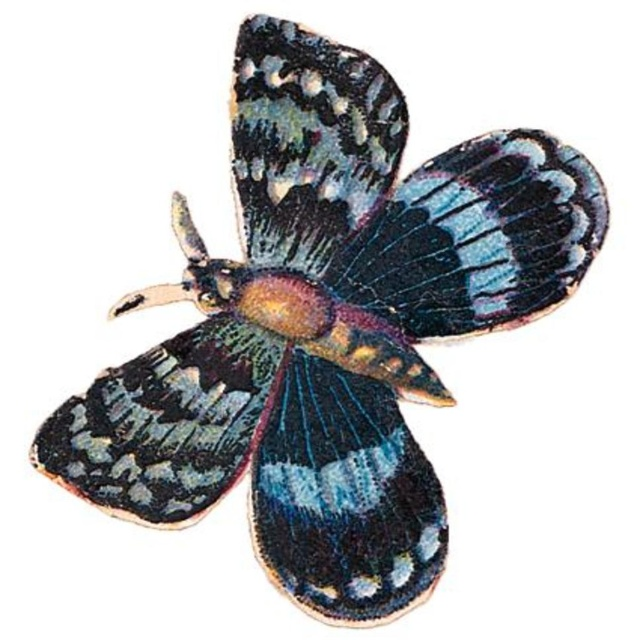Butterfly: (29, 13, 611, 626)
